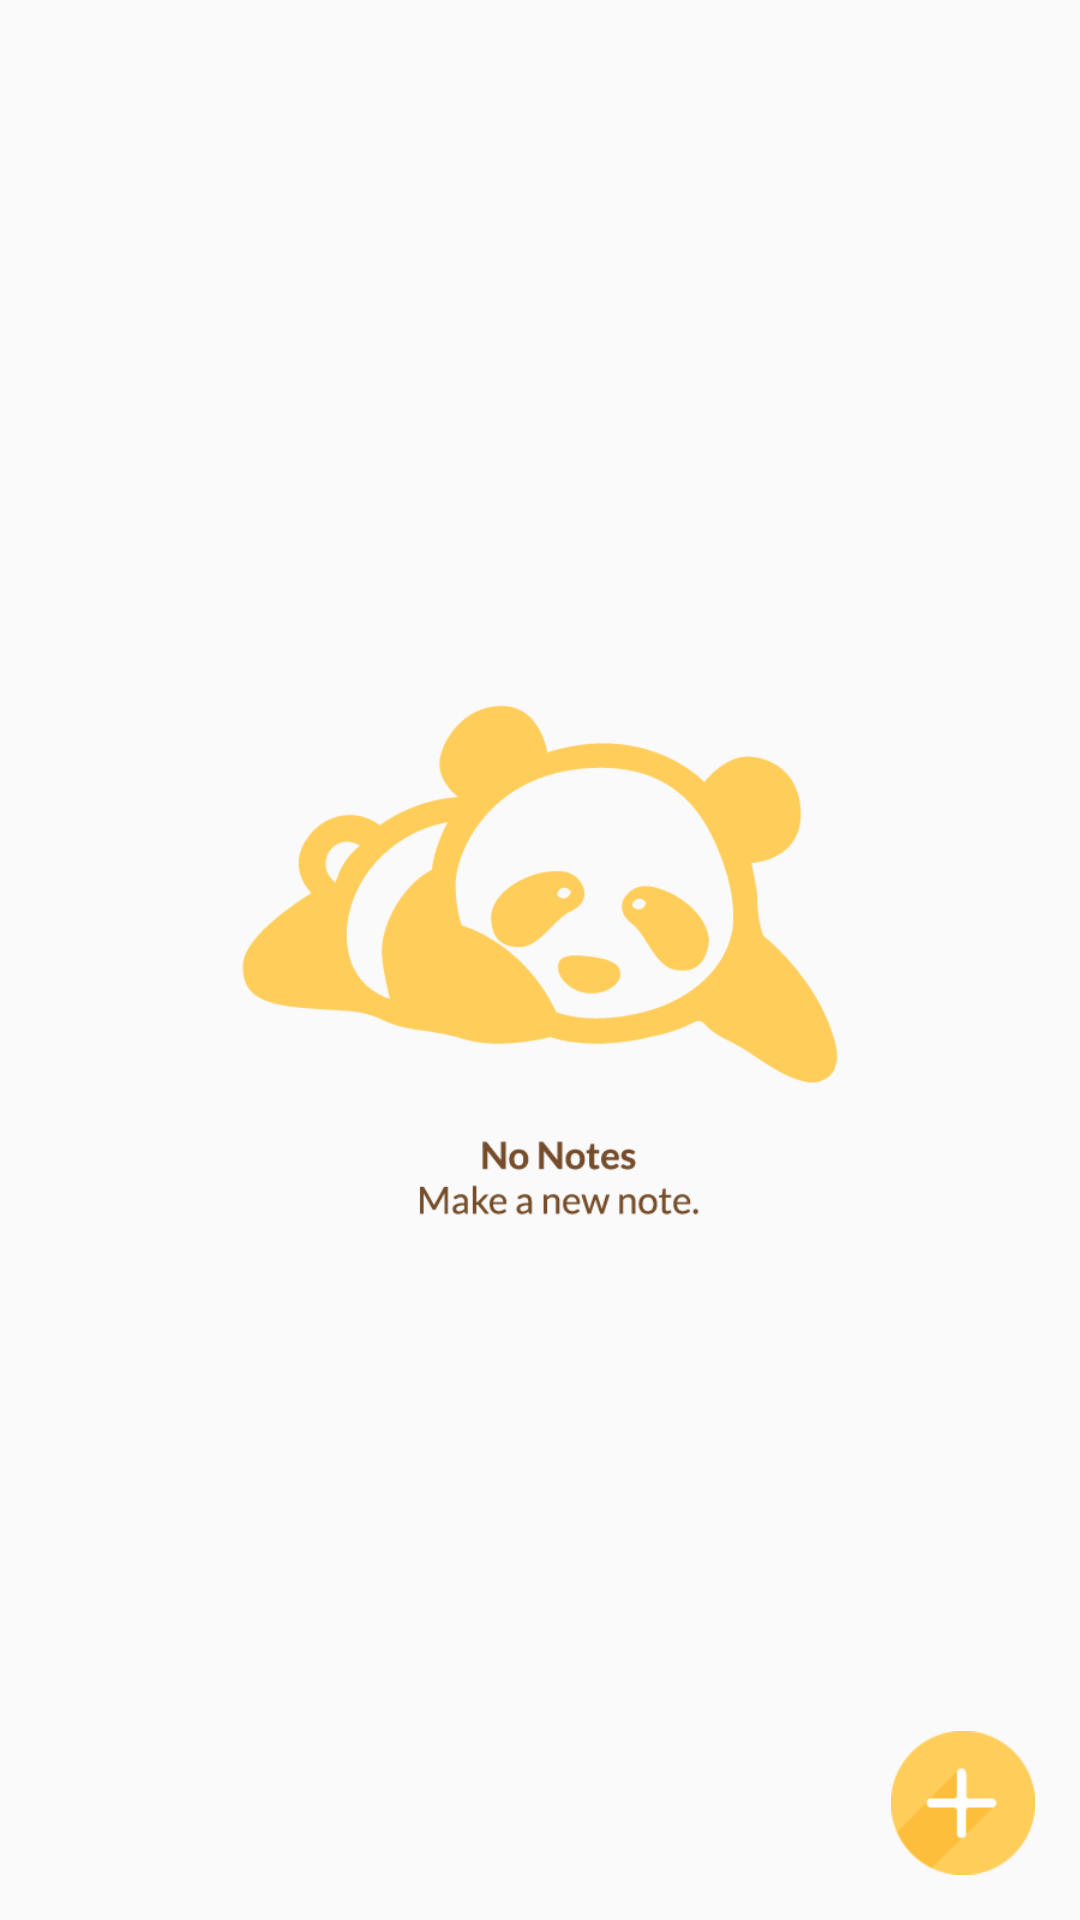

Screen size 1080w x 1920h. Icon name, then its box in pixels as (x1, y1, x2, y2):
add: (891, 1731, 1035, 1875)
